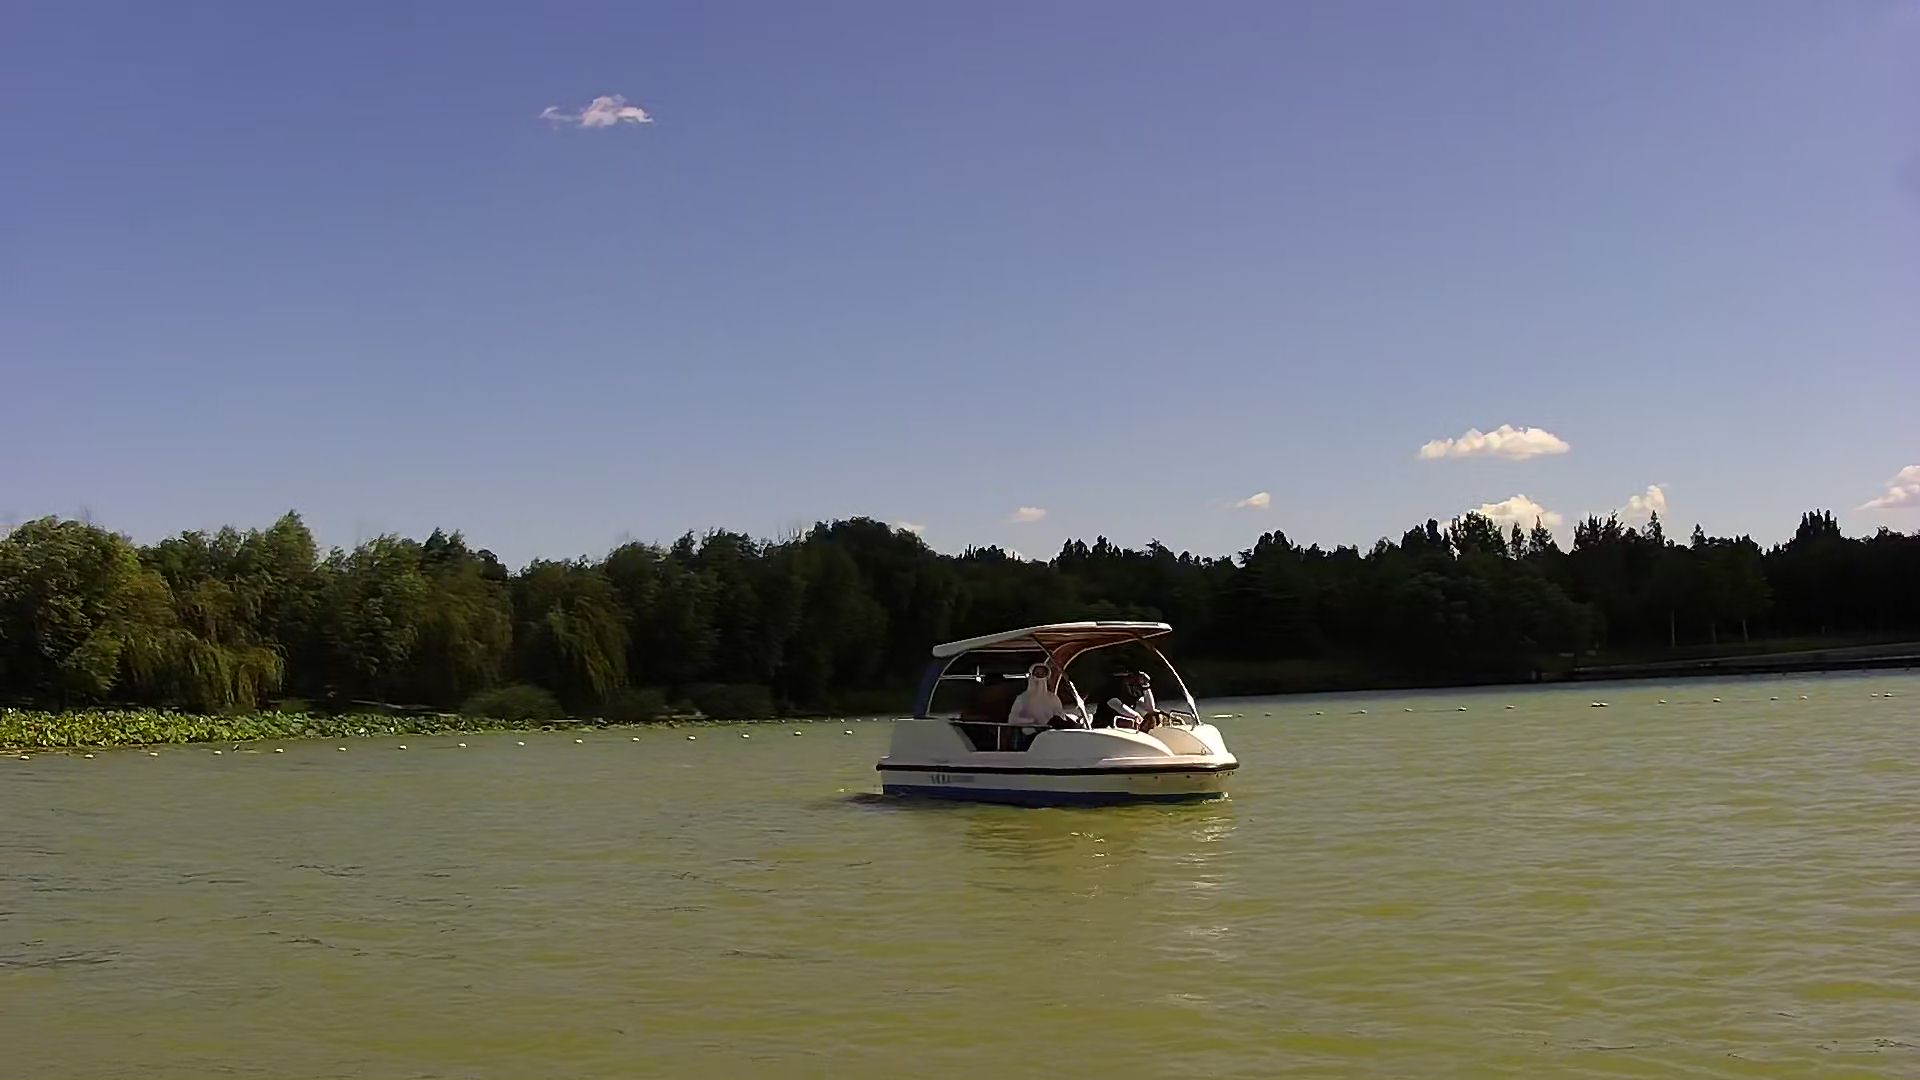boat: (865, 588, 1284, 851)
